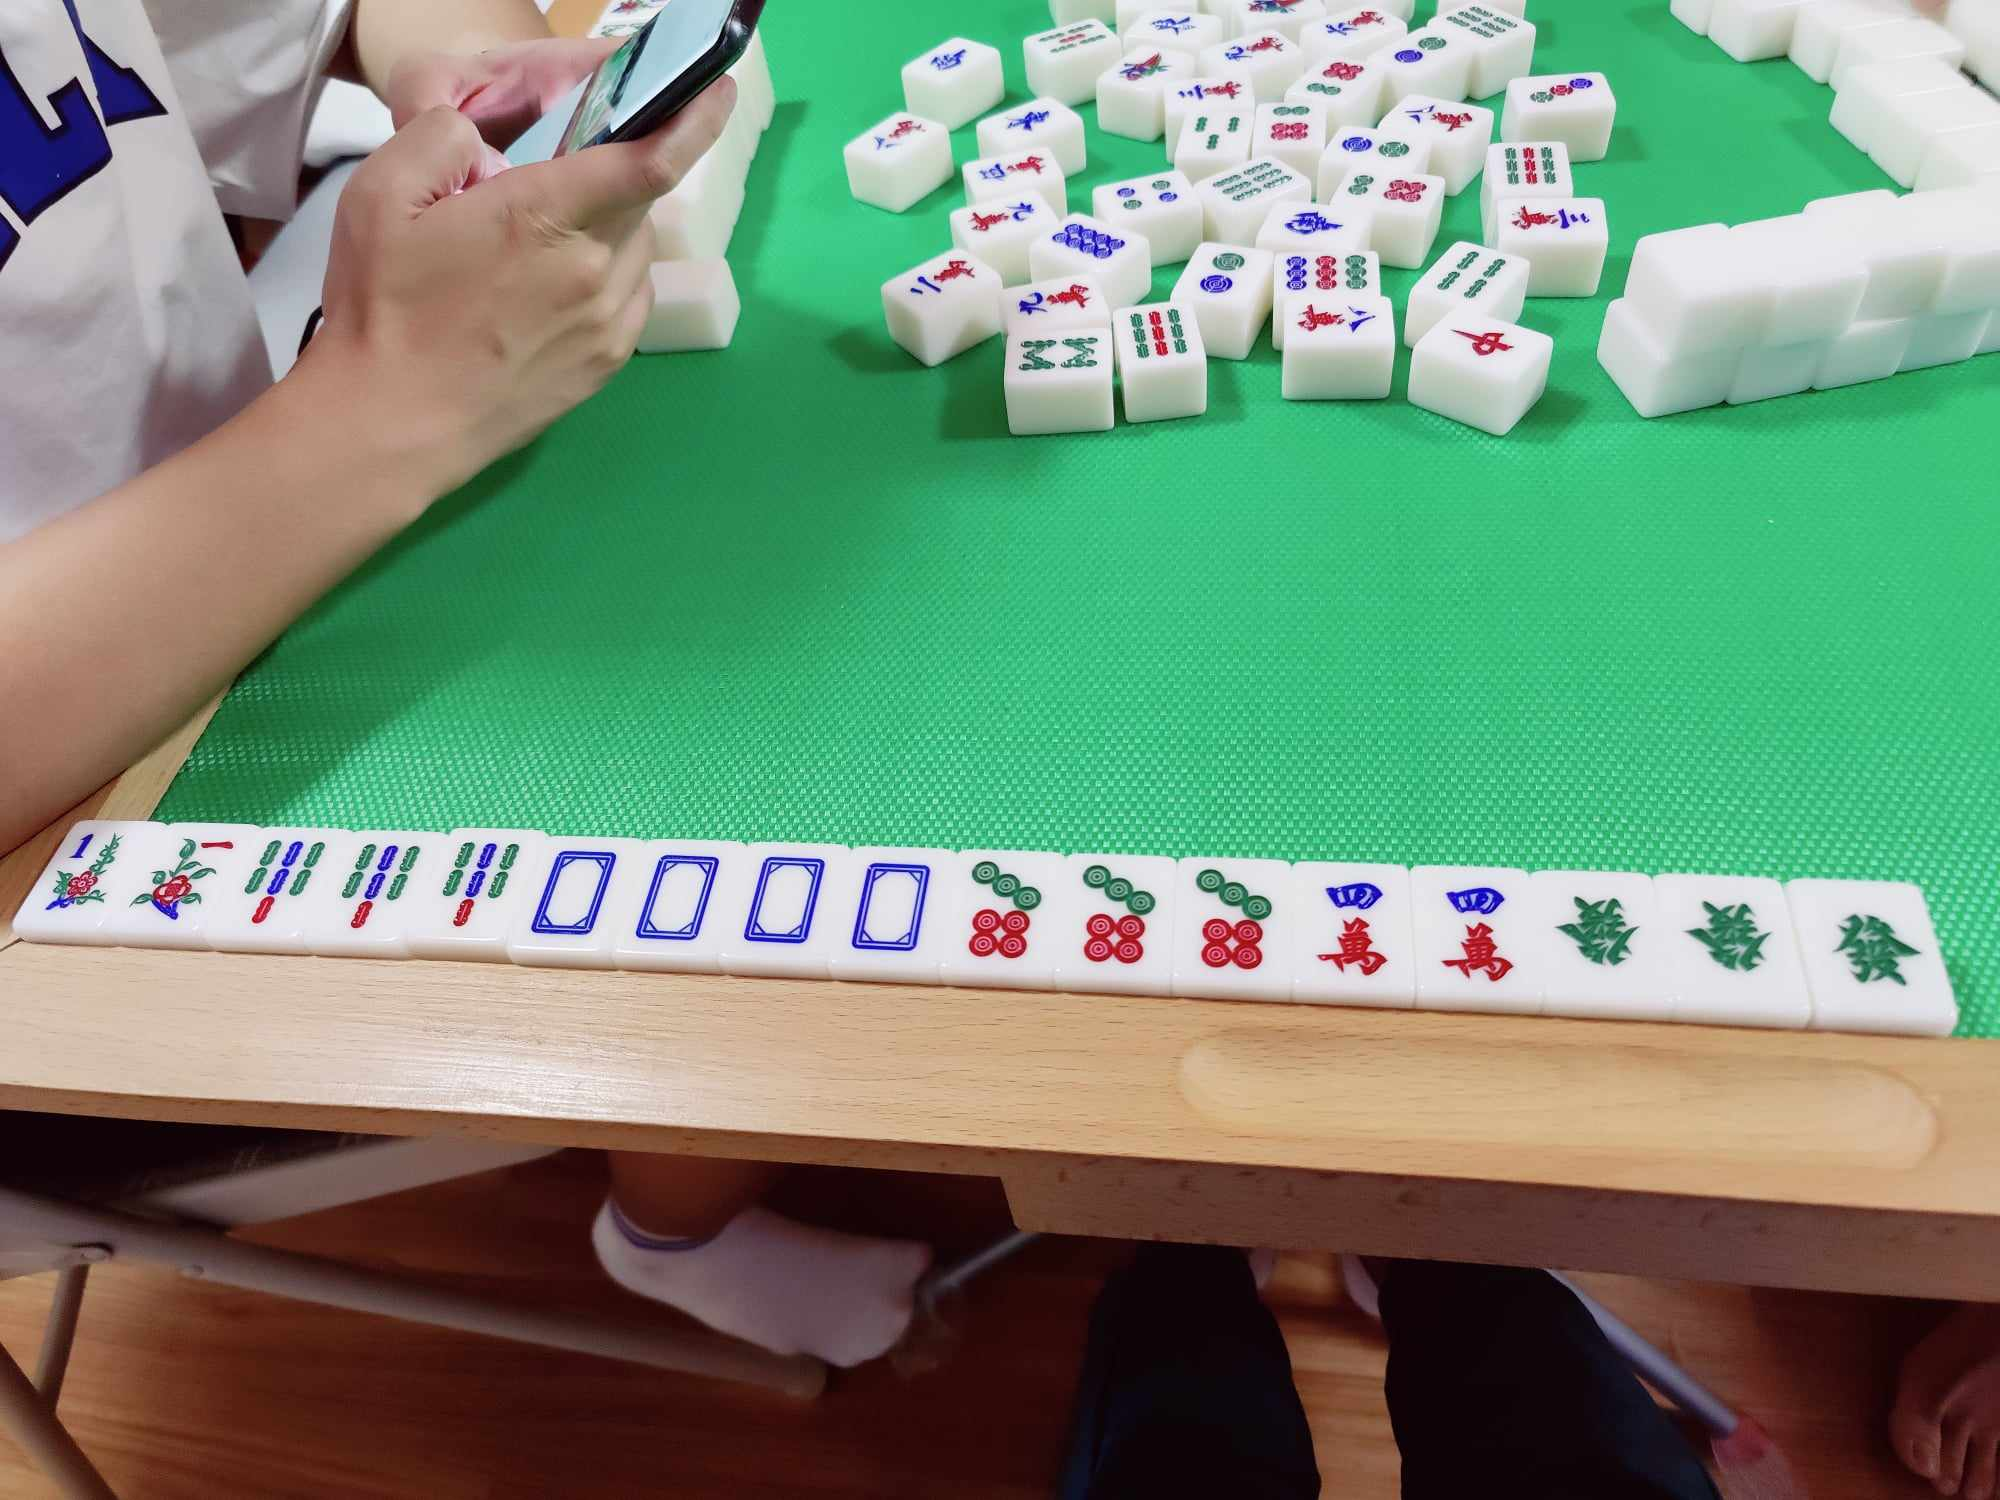bamboo-seven: (439, 830, 521, 941), (243, 830, 328, 936), (339, 834, 422, 937)
character-four: (1424, 876, 1524, 994), (1310, 868, 1402, 986)
circle-seven: (1074, 856, 1169, 974), (1187, 862, 1280, 982), (964, 859, 1047, 963)
flower-blue_one: (39, 822, 124, 923)
flower-red_one: (131, 826, 239, 926)
honor-blue_dragon: (737, 848, 828, 953), (847, 854, 935, 958), (635, 846, 721, 952), (532, 841, 619, 942)
honor-green_dragon: (1817, 892, 1928, 1015), (1679, 882, 1776, 1001), (1550, 879, 1647, 991)
